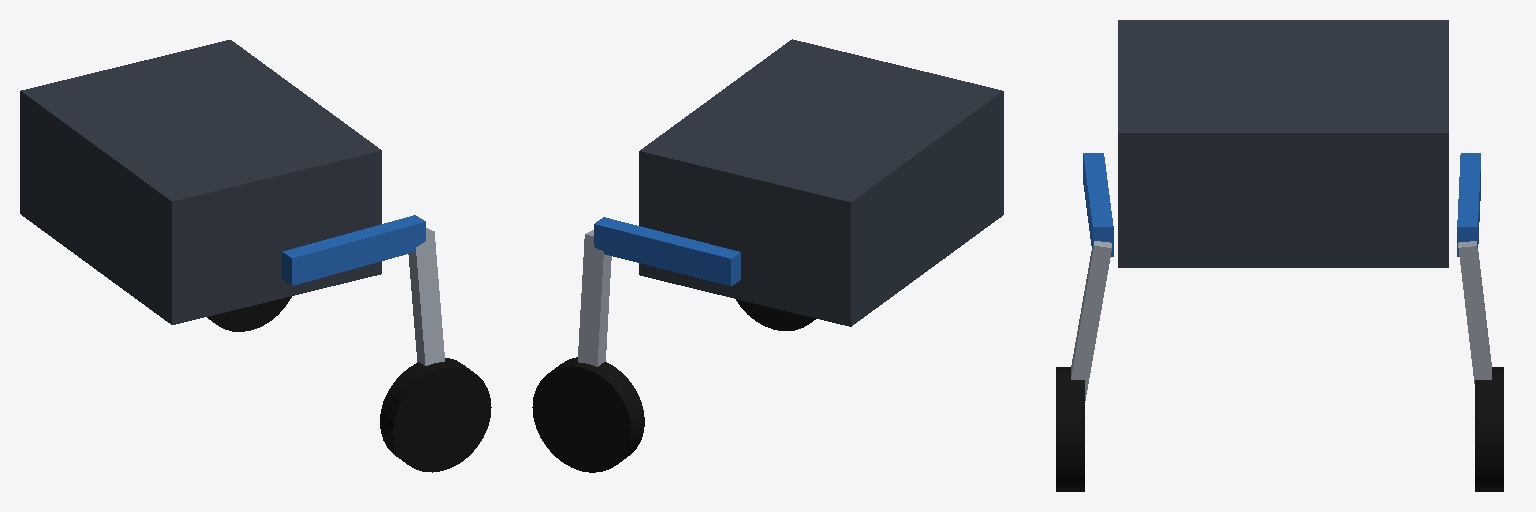
URDF robot description (fourth_version):
<?xml version='1.0' encoding='utf-8'?>
<robot name="fourth_version">
  <!-- Fudan-compatible SIX-DOF proxy model. Geometry is approximate; mass and physical inertia are preserved from the SW export. See MODEL_NOTES.md. -->
  <link name="base_link">
    <inertial>
      <origin xyz="0.00157941787711358 0.00143123804068395 0.0328921137045299" rpy="0 0 0" />
      <mass value="23.6411640630659" />
      <inertia ixx="0.0455766740838017" ixy="0.000114328137412016" ixz="-0.000147424506115227" iyy="0.0618163099557787" iyz="-6.661434589751251e-05" izz="0.0780399218706966" />
    </inertial>
    <visual>
      <origin xyz="0.00157941787711358 0.00143123804068395 0.0328921137045299" rpy="0 0 0" />
      <geometry>
        <box size="0.32 0.40 0.18" />
      </geometry>
      <material name="base_link_color">
        <color rgba="0.25 0.28 0.32 1" />
      </material>
    </visual>
    <collision>
      <origin xyz="0.00157941787711358 0.00143123804068395 0.0328921137045299" rpy="0 0 0" />
      <geometry>
        <box size="0.32 0.40 0.18" />
      </geometry>
    </collision>
  </link>
  <link name="lf0_Link">
    <inertial>
      <origin xyz="0.0752810006062106 0.013365523561694 0.00178243203061139" rpy="0 0 0" />
      <mass value="0.65510430638218" />
      <inertia ixx="0.000424611308499815" ixy="-5.503972975118413e-05" ixz="-5.333474267270862e-06" iyy="0.002300199248356854" iyz="-3.156527782169578e-06" izz="0.00267737655778862" />
    </inertial>
    <visual>
      <origin xyz="0.105 0 -0.0020499999999998" rpy="1.59031765619627 0 1.5707963267949" />
      <geometry>
        <box size="0.04 0.025 0.21004001999619" />
      </geometry>
      <material name="lf0_Link_color">
        <color rgba="0.20 0.45 0.75 1" />
      </material>
    </visual>
    <collision>
      <origin xyz="0.105 0 -0.0020499999999998" rpy="1.59031765619627 0 1.5707963267949" />
      <geometry>
        <box size="0.04 0.025 0.21004001999619" />
      </geometry>
    </collision>
  </link>
  <link name="lf1_Link">
    <inertial>
      <origin xyz="0.00107357066443761 0.0784096696853945 0.00996666337546052" rpy="0 0 0" />
      <mass value="0.190041656335032" />
      <inertia ixx="0.00134928587618732" ixy="-1.960627353874673e-05" ixz="3.570889202250243e-08" iyy="5.439891414610634e-05" iyz="2.27814254552516e-06" izz="0.00138869614090021" />
    </inertial>
    <visual>
      <origin xyz="0 0.125000000000001 0.0133000000000001" rpy="1.46479513803866 0 3.14159265358979" />
      <geometry>
        <box size="0.03 0.022 0.251411137382577" />
      </geometry>
      <material name="lf1_Link_color">
        <color rgba="0.65 0.68 0.72 1" />
      </material>
    </visual>
    <collision>
      <origin xyz="0 0.125000000000001 0.0133000000000001" rpy="1.46479513803866 0 3.14159265358979" />
      <geometry>
        <box size="0.03 0.022 0.251411137382577" />
      </geometry>
    </collision>
  </link>
  <link name="l_wheel_Link">
    <inertial>
      <origin xyz="-4.72961720075011e-05 0.00120330103844037 0.0105417035612281" rpy="0 0 0" />
      <mass value="0.186836731538156" />
      <inertia ixx="0.0001643052292091234" ixy="-1.858038101103027e-07" ixz="-2.939190969892516e-08" iyy="0.0001689776056354666" iyz="7.584922898247151e-07" izz="0.000325324482219904" />
    </inertial>
    <visual>
      <origin xyz="0 0 0" rpy="0 0 0" />
      <geometry>
        <cylinder radius="0.075" length="0.035" />
      </geometry>
      <material name="l_wheel_Link_color">
        <color rgba="0.12 0.12 0.12 1" />
      </material>
    </visual>
    <collision>
      <origin xyz="0 0 0" rpy="0 0 0" />
      <geometry>
        <cylinder radius="0.075" length="0.035" />
      </geometry>
    </collision>
  </link>
  <link name="rf0_Link">
    <inertial>
      <origin xyz="0.0494763630795827 0.0126157251670159 0.00119163688747997" rpy="0 0 0" />
      <mass value="0.649223655816058" />
      <inertia ixx="0.0005071288925588518" ixy="-8.264666017839526e-05" ixz="-2.178071029073444e-06" iyy="0.001452573928037722" iyz="-2.466243523828344e-06" izz="0.00165558280621419" />
    </inertial>
    <visual>
      <origin xyz="0.105 0 -0.00574999999999584" rpy="1.62550358863455 0 1.5707963267949" />
      <geometry>
        <box size="0.04 0.025 0.21031464523423" />
      </geometry>
      <material name="rf0_Link_color">
        <color rgba="0.20 0.45 0.75 1" />
      </material>
    </visual>
    <collision>
      <origin xyz="0.105 0 -0.00574999999999584" rpy="1.62550358863455 0 1.5707963267949" />
      <geometry>
        <box size="0.04 0.025 0.21031464523423" />
      </geometry>
    </collision>
  </link>
  <link name="rf1_Link">
    <inertial>
      <origin xyz="-0.00101943412766182 -0.0769224359518827 0.0100212160168063" rpy="0 0 0" />
      <mass value="0.184645451937383" />
      <inertia ixx="0.001347872094695379" ixy="-1.958619241042844e-05" ixz="-3.570889202261822e-08" iyy="5.404726409578326e-05" iyz="-2.278142545518539e-06" izz="0.00138693880366454" />
    </inertial>
    <visual>
      <origin xyz="0 -0.125000000000001 0.0198000000000008" rpy="1.41370151524879 0 0" />
      <geometry>
        <box size="0.03 0.022 0.253116889993538" />
      </geometry>
      <material name="rf1_Link_color">
        <color rgba="0.65 0.68 0.72 1" />
      </material>
    </visual>
    <collision>
      <origin xyz="0 -0.125000000000001 0.0198000000000008" rpy="1.41370151524879 0 0" />
      <geometry>
        <box size="0.03 0.022 0.253116889993538" />
      </geometry>
    </collision>
  </link>
  <link name="r_wheel_Link">
    <inertial>
      <origin xyz="4.85409335781103e-05 -0.00123541483004635 -0.00253067406553018" rpy="0 0 0" />
      <mass value="0.187589280591433" />
      <inertia ixx="0.0001644634443315078" ixy="-1.93213836446964e-07" ixz="2.939190969773177e-08" iyy="0.0001693263551841754" iyz="-7.584922898245335e-07" izz="0.0003258313214661549" />
    </inertial>
    <visual>
      <origin xyz="0 0 0" rpy="0 0 0" />
      <geometry>
        <cylinder radius="0.075" length="0.035" />
      </geometry>
      <material name="r_wheel_Link_color">
        <color rgba="0.12 0.12 0.12 1" />
      </material>
    </visual>
    <collision>
      <origin xyz="0 0 0" rpy="0 0 0" />
      <geometry>
        <cylinder radius="0.075" length="0.035" />
      </geometry>
    </collision>
  </link>
  <joint name="lf0_Joint" type="revolute">
    <origin xyz="0 0.227699999999995 0" rpy="-1.5707963267949 0 0" />
    <parent link="base_link" />
    <child link="lf0_Link" />
    <axis xyz="0 0 1" />
    <limit lower="-100" upper="100" effort="30" velocity="1000" />
  </joint>
  <joint name="lf1_Joint" type="revolute">
    <origin xyz="0.21 0 -0.0040999999999996" rpy="0 0 0" />
    <parent link="lf0_Link" />
    <child link="lf1_Link" />
    <axis xyz="0 0 1" />
    <limit lower="-100" upper="100" effort="30" velocity="1000" />
  </joint>
  <joint name="l_wheel_Joint" type="continuous">
    <origin xyz="0 0.250000000000002 0.0266000000000003" rpy="0 0 0" />
    <parent link="lf1_Link" />
    <child link="l_wheel_Link" />
    <axis xyz="0 0 1" />
    <limit effort="30" velocity="1000" />
  </joint>
  <joint name="rf0_Joint" type="revolute">
    <origin xyz="0 -0.227699999999995 0" rpy="1.5707963267949 0 0" />
    <parent link="base_link" />
    <child link="rf0_Link" />
    <axis xyz="0 0 1" />
    <limit lower="-100" upper="100" effort="30" velocity="1000" />
  </joint>
  <joint name="rf1_Joint" type="revolute">
    <origin xyz="0.210000000000001 0 -0.0114999999999917" rpy="0 0 0" />
    <parent link="rf0_Link" />
    <child link="rf1_Link" />
    <axis xyz="0 0 1" />
    <limit lower="-100" upper="100" effort="30" velocity="1000" />
  </joint>
  <joint name="r_wheel_Joint" type="continuous">
    <origin xyz="0 -0.250000000000002 0.0396000000000015" rpy="0 0 0" />
    <parent link="rf1_Link" />
    <child link="r_wheel_Link" />
    <axis xyz="0 0 1" />
    <limit effort="30" velocity="1000" />
  </joint>
</robot>

--- Facts derived from the render (not from the file) ---
The picture shows the robot from 3 angles, left to right: view 1: azimuth 30°, elevation 25°; view 2: azimuth 150°, elevation 25°; view 3: azimuth 270°, elevation 25°; orthographic projection.
Robot: fourth_version — 7 links, 6 joints (4 revolute, 2 continuous); root link base_link; default pose: all joints at 0.
Links seen in each view (by area): view 1: base_link, r_wheel_Link, rf0_Link, rf1_Link, l_wheel_Link; view 2: base_link, l_wheel_Link, lf0_Link, lf1_Link, r_wheel_Link; view 3: base_link, r_wheel_Link, l_wheel_Link, rf1_Link, lf1_Link, rf0_Link, lf0_Link.
Boxes of the visible links, x1=… form: base_link: x1=20, y1=40, x2=381, y2=324; r_wheel_Link: x1=380, y1=358, x2=491, y2=472; rf0_Link: x1=282, y1=215, x2=425, y2=285; rf1_Link: x1=408, y1=228, x2=444, y2=365; l_wheel_Link: x1=207, y1=296, x2=291, y2=331; base_link: x1=639, y1=39, x2=1003, y2=326; l_wheel_Link: x1=532, y1=357, x2=644, y2=472; lf0_Link: x1=594, y1=217, x2=740, y2=285; lf1_Link: x1=578, y1=230, x2=611, y2=366; r_wheel_Link: x1=736, y1=299, x2=815, y2=330; base_link: x1=1118, y1=20, x2=1448, y2=267; r_wheel_Link: x1=1056, y1=367, x2=1084, y2=491; l_wheel_Link: x1=1475, y1=367, x2=1503, y2=491; rf1_Link: x1=1071, y1=241, x2=1111, y2=400; lf1_Link: x1=1458, y1=241, x2=1491, y2=383; rf0_Link: x1=1083, y1=153, x2=1113, y2=256; lf0_Link: x1=1457, y1=153, x2=1480, y2=256.
Bounding box of the posed robot: 0.4434 × 0.541 × 0.4479 m (x, y, z).
Geometry: primitives only (box / cylinder / sphere), no mesh files.
